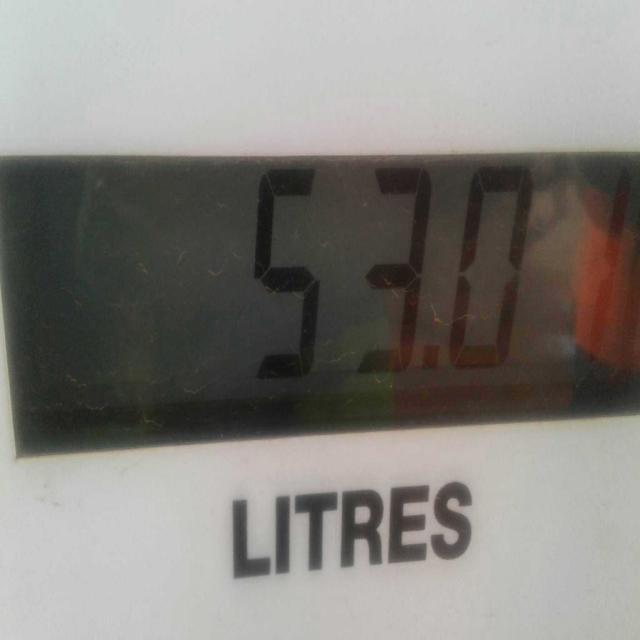.: (419, 349, 445, 376)
0: (452, 162, 534, 382)
3: (356, 163, 425, 383)
5: (249, 162, 329, 379)
screen: (0, 148, 640, 458)
